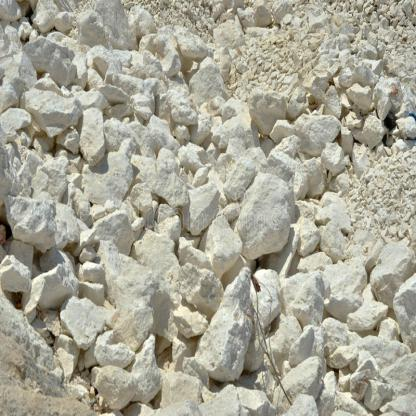Sedimentary_Limestone: (190, 270, 253, 379), (231, 165, 296, 267), (98, 238, 157, 327), (4, 192, 72, 253), (22, 85, 74, 139), (368, 249, 416, 305), (126, 83, 167, 130), (78, 105, 108, 167), (247, 91, 282, 140), (285, 85, 310, 128), (361, 116, 386, 151)
